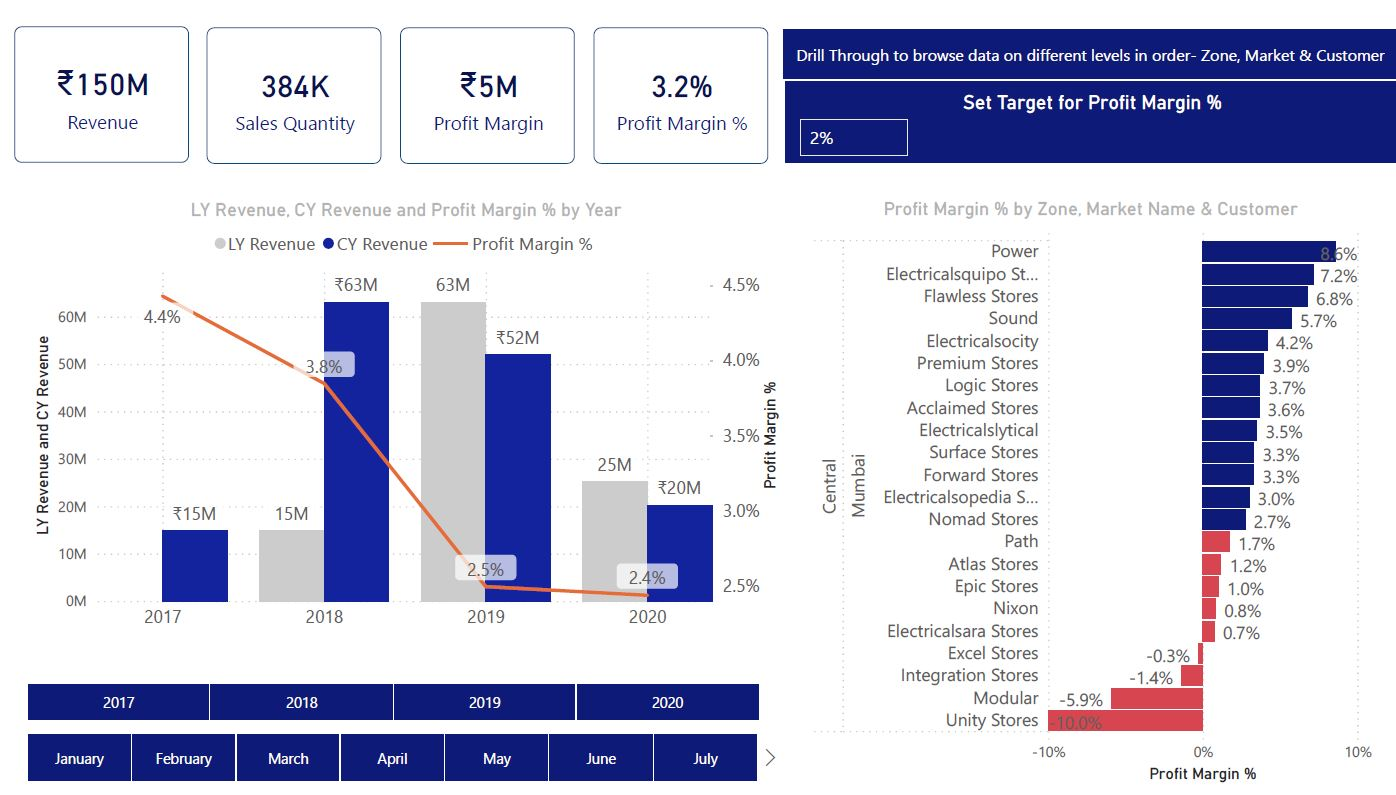

The dashboard page shown, as its layout file describes it:
{"tool":"powerbi","page":{"name":"Revenue Comparison & Profit Margin Analysis","canvas":[1280,720],"ordinal":1},"visuals":[{"type":"actionButton","box":[717.1,22.3,561.4,45.1],"z":0},{"type":"barChart","title":"Profit Margin % by Zone, Market Name & Customer","fields":{"Category":["sales markets.zone","sales markets.markets_name","sales customers.custmer_name"],"Y":["Base Measures.All Time Profit Margin %"]},"box":[736.2,176.2,523.8,540],"z":1000},{"type":"card","fields":{"Values":["Base Measures.All Time Profit Margin"]},"box":[365.8,20,160,125],"z":2000},{"type":"slicer","title":"Set Target for Profit Margin %","fields":{"Values":["TARGET - Profit.TARGET - Profit"]},"box":[716.2,71.2,561.2,73.8],"z":3000},{"type":"card","fields":{"Values":["Base Measures.All Time Profit Margin %"]},"box":[542.5,20,160,125],"z":4000},{"type":"card","fields":{"Values":["Base Measures.All Time Revenue"]},"box":[12.5,18.8,160,125],"z":5000},{"type":"card","fields":{"Values":["Base Measures.All Time Sales Quantity"]},"box":[189.2,20,160,125],"z":6000},{"type":"lineClusteredColumnComboChart","fields":{"Category":["sales date.date.Variation.Date Hierarchy.Year","sales date.date.Variation.Date Hierarchy.Quarter","sales date.date.Variation.Date Hierarchy.Month"],"Y":["Base Measures.Revenue Last Year","Base Measures.All Time Revenue"],"Y2":["Base Measures.All Time Profit Margin %"]},"box":[26.3,176.6,690.8,403.6],"z":7000},{"type":"slicer","fields":{"Values":["sales date.year"]},"box":[0,613.8,717.5,46.2],"z":7001},{"type":"slicer","fields":{"Values":["sales date.date.Variation.Date Hierarchy.Month"]},"box":[0,660,716.2,56.2],"z":7002}]}

Visuals, with their boxes in screenshot pixels (x1, y1, x2, y2), scaled from the page's 1280x720 canvas onto the 1396x795 screenshot:
actionButton: <bbox>782, 25, 1394, 74</bbox>
"Profit Margin % by Zone, Market Name & Customer" barChart: <bbox>803, 195, 1374, 791</bbox>
card - Base Measures.All Time Profit Margin: <bbox>399, 22, 573, 160</bbox>
"Set Target for Profit Margin %" slicer: <bbox>781, 79, 1393, 160</bbox>
card - Base Measures.All Time Profit Margin %: <bbox>592, 22, 766, 160</bbox>
card - Base Measures.All Time Revenue: <bbox>14, 21, 188, 159</bbox>
card - Base Measures.All Time Sales Quantity: <bbox>206, 22, 381, 160</bbox>
lineClusteredColumnComboChart - sales date.date.Variation.Date Hierarchy.Year x sales date.date.Variation.Date Hierarchy.Quarter: <bbox>29, 195, 782, 641</bbox>
slicer - sales date.year: <bbox>0, 678, 783, 729</bbox>
slicer - sales date.date.Variation.Date Hierarchy.Month: <bbox>0, 729, 781, 791</bbox>
